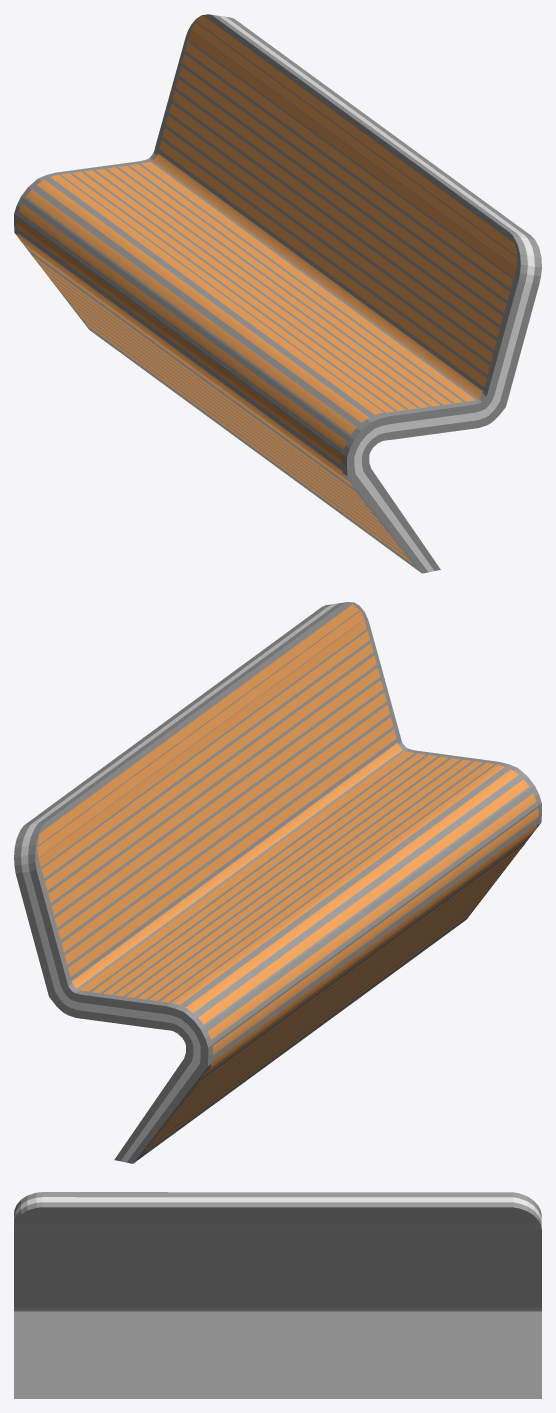
File: Modern bench 1.fbx
3 views of the same model, one above another, from view 1: azimuth 30°, elevation 25°; view 2: azimuth 150°, elevation 25°; view 3: azimuth 270°, elevation 25° (orthographic). The views are drawn at different scales.
Parts seen in each view (by area): view 1: Bench; view 2: Bench; view 3: Bench.
Part boxes in pixels (bbox=[...]): Bench: bbox=[14, 14, 541, 573]; Bench: bbox=[14, 602, 541, 1163]; Bench: bbox=[14, 1192, 541, 1398].
Size of the model in its own units: 70.74 by 101 by 201.
